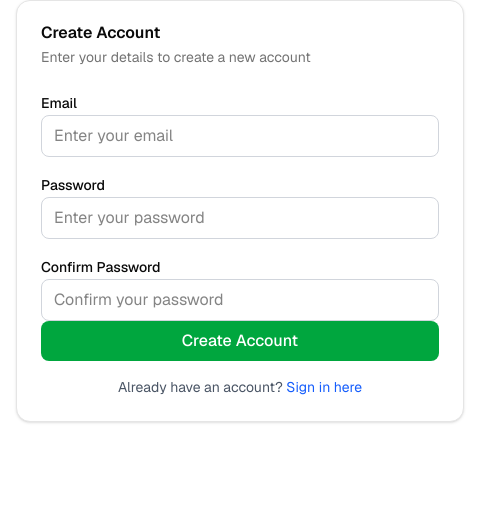
Authentication Tests › SignupForm Component › handles successful signup
Type "newuser@example.com" into the field labelled "Email".
click(240, 136); type("newuser@example.com")  # box x1=41 y1=115 x2=439 y2=157
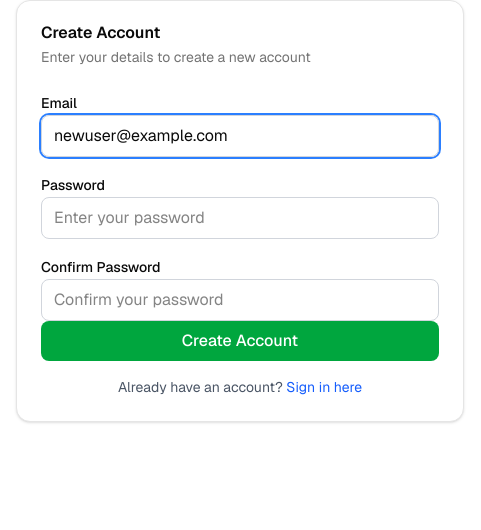
Type "password123" into the password field labelled "Password".
click(240, 218); type("password123")  # box x1=41 y1=197 x2=439 y2=239
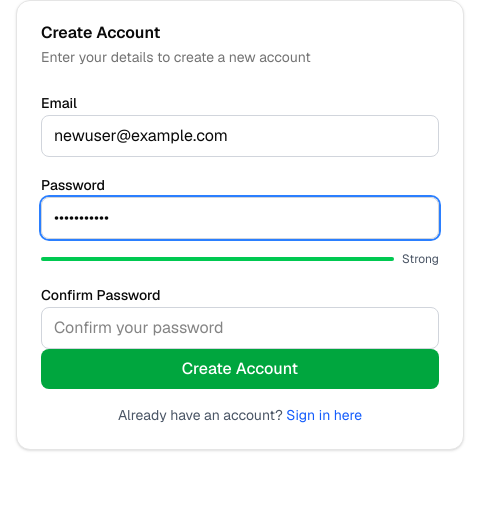
Type "password123" into the password field labelled "Confirm Password".
click(240, 328); type("password123")  # box x1=41 y1=307 x2=439 y2=349
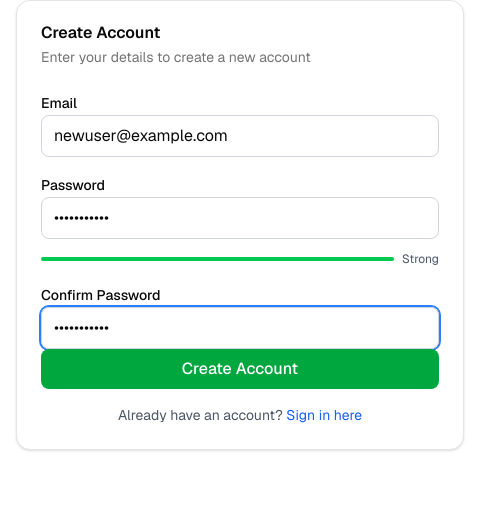
Click the button "Create Account".
click(240, 369)  # box x1=41 y1=349 x2=439 y2=389
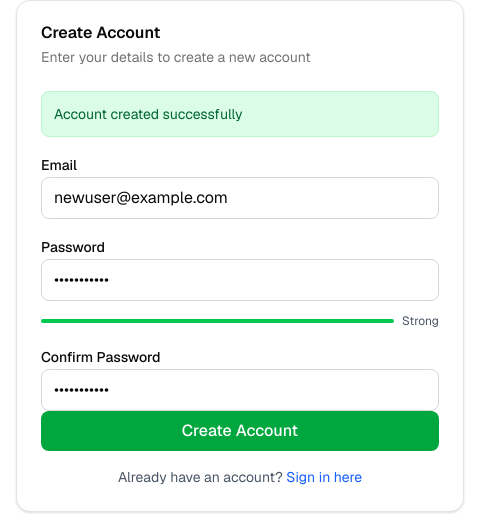
Expected: the text "Account created successfully" is shown, x1=41 y1=91 x2=439 y2=137
